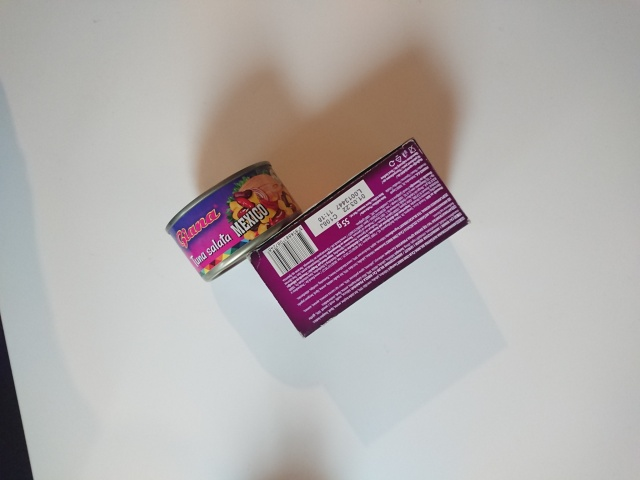Franck Black Currant Tea 60g: (244, 135, 474, 341)
Giana Tuna Salad Mexico 185g: (162, 158, 306, 284)
